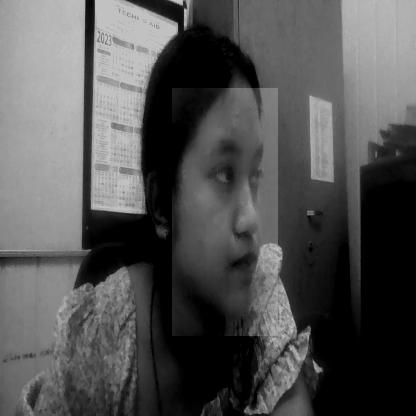Distracted: (172, 88, 278, 336)
